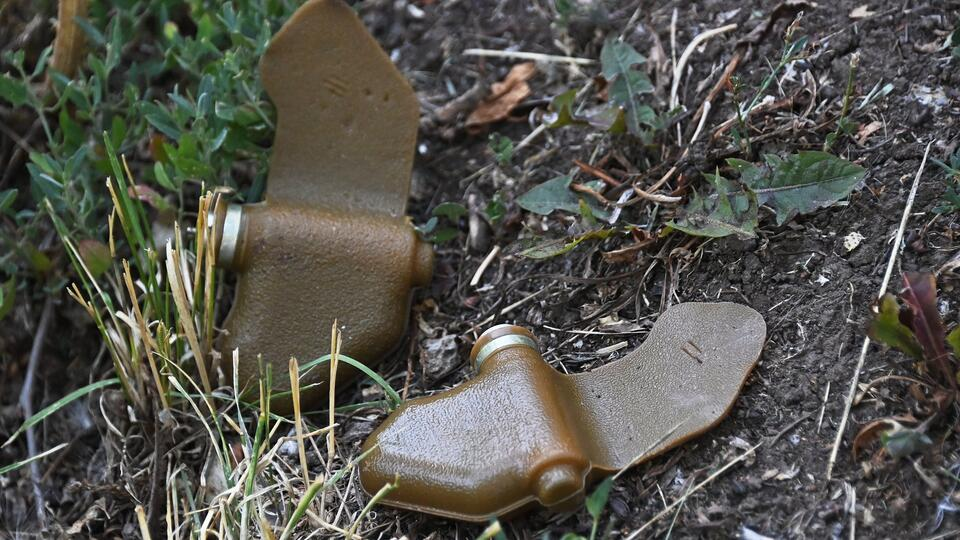butterfly: (196, 3, 455, 402), (352, 290, 778, 529)
